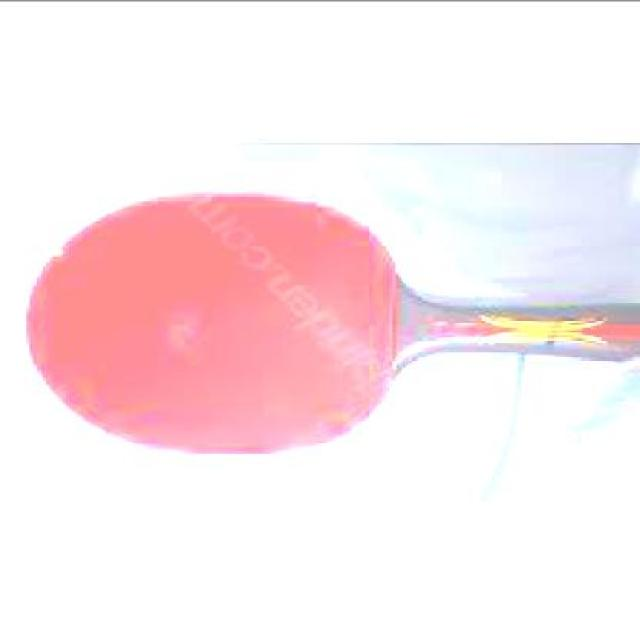table_tennis_racket: (25, 186, 423, 459)
